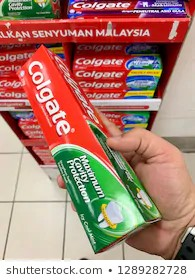colgate-family: (74, 54, 161, 99)
colgate-medium: (11, 34, 162, 252)
